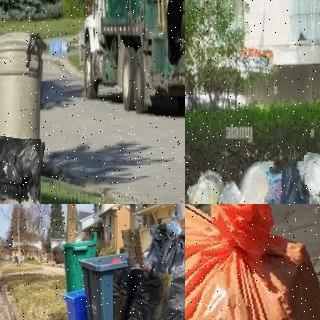Garbage: (185, 204, 320, 320), (132, 214, 185, 320), (108, 268, 167, 320), (0, 137, 43, 204), (272, 161, 315, 204), (238, 159, 277, 204), (302, 153, 320, 198)
